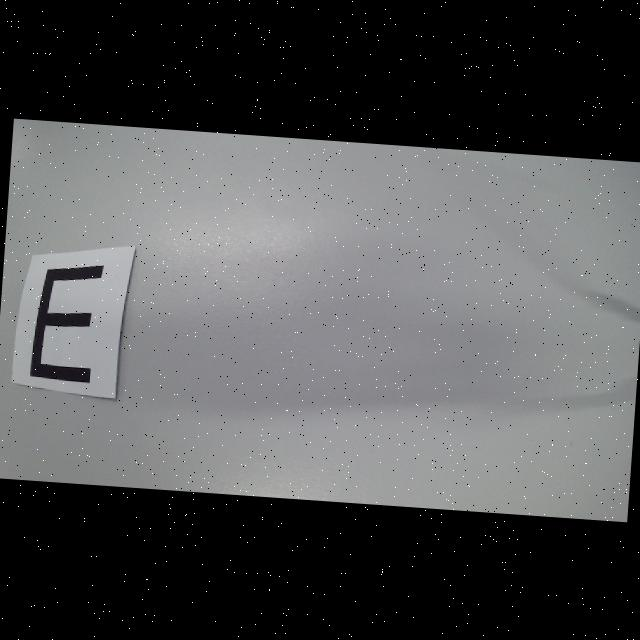FAKE: (30, 260, 104, 383)
